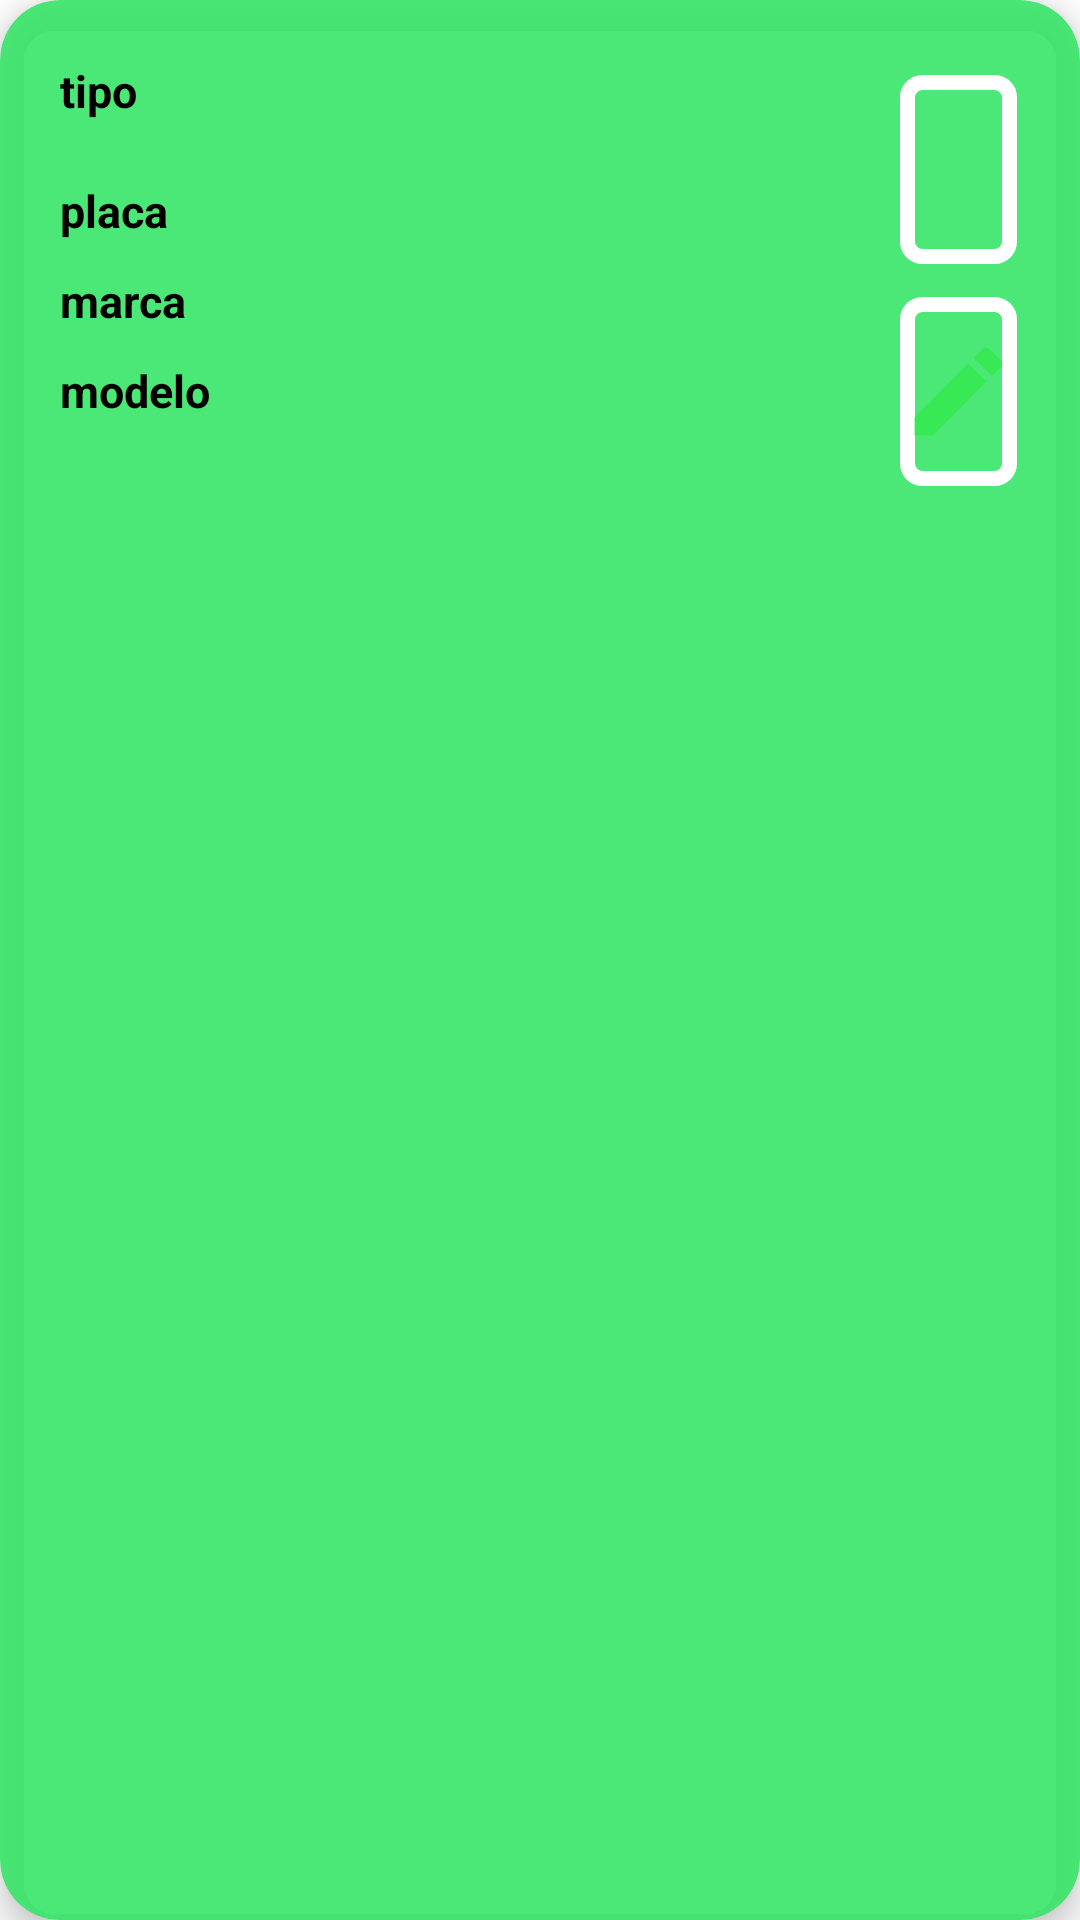

Where icons sit on this 1080 x 1920 app screen, as box(x1, y1, x2, y2):
edit: box(900, 297, 1017, 486)
